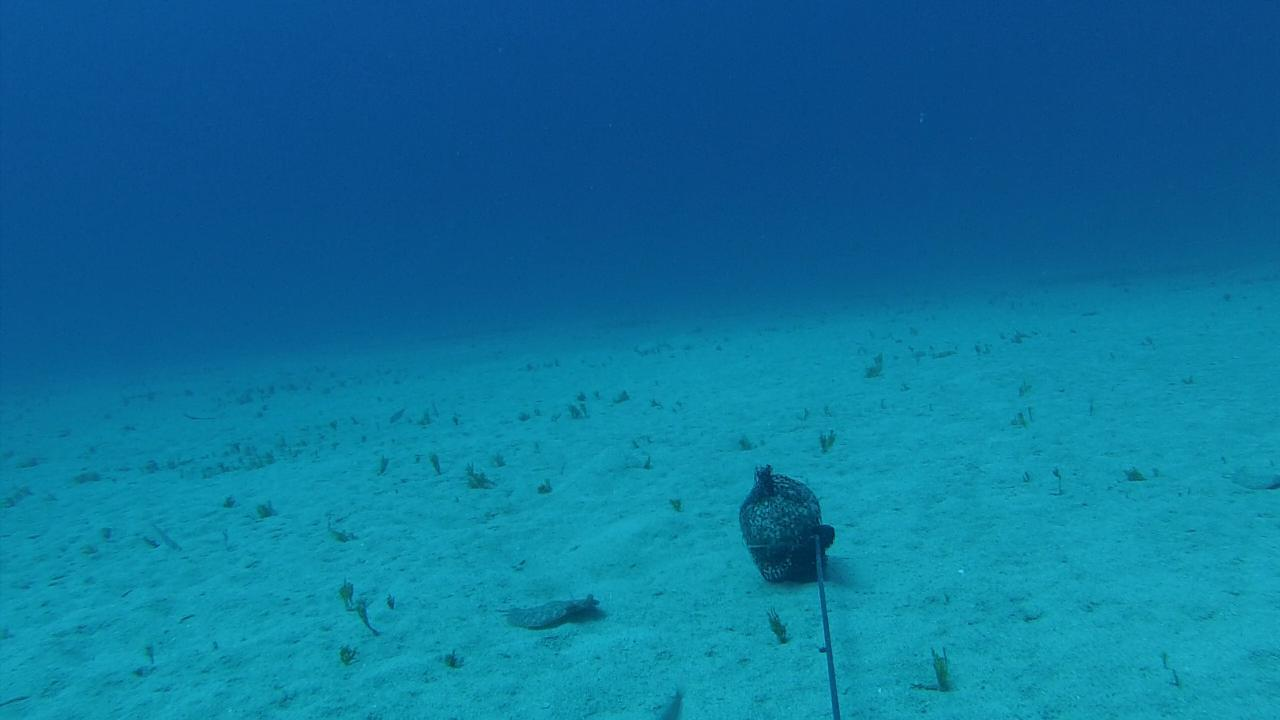bothus: (478, 588, 602, 636), (1223, 463, 1279, 495)
